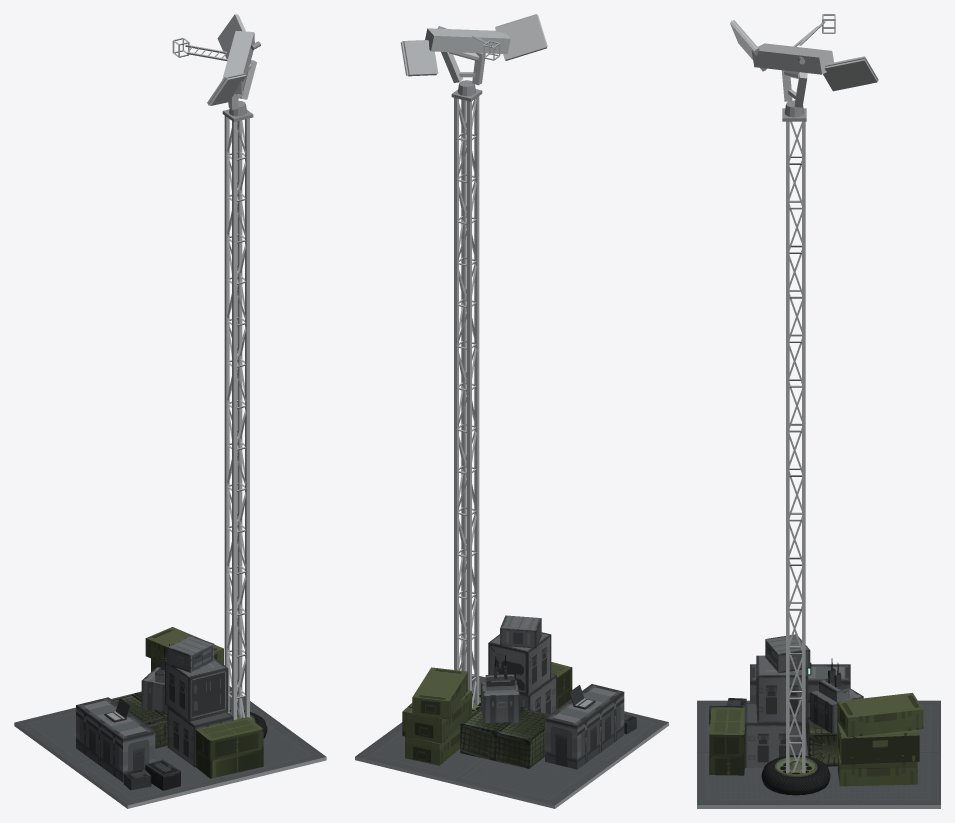
File: fob.glb
3 views of the same model, side by side, from view 1: azimuth 30°, elevation 25°; view 2: azimuth 150°, elevation 25°; view 3: azimuth 270°, elevation 25° (orthographic). The views are drawn at different scales.
Parts seen in each view (by area): view 1: SM_Buildable_FOB_Stages_Lonestar_Nanite; view 2: SM_Buildable_FOB_Stages_Lonestar_Nanite; view 3: SM_Buildable_FOB_Stages_Lonestar_Nanite.
Part boxes in pixels (left/top/right/bottom): SM_Buildable_FOB_Stages_Lonestar_Nanite: left=14, top=14, right=326, bottom=808; SM_Buildable_FOB_Stages_Lonestar_Nanite: left=355, top=14, right=668, bottom=808; SM_Buildable_FOB_Stages_Lonestar_Nanite: left=697, top=14, right=940, bottom=808.
Size of the model in its own units: 4.09 by 13.65 by 4.03.
12 materials, 4 textured.
